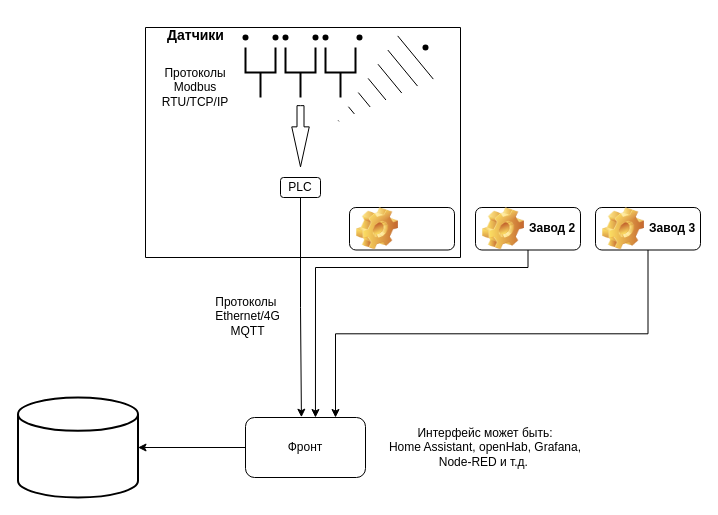
Image size: 718x515. Some labels were removed from this diagram. Here are the shapes that lost their labels. From the top down, the centre of each, then its label:
(x=401, y=228): Завод 1
(x=77, y=447): DB PostgreSQL + TimescaleDB
